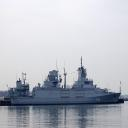Fragata: (7, 56, 123, 108)
